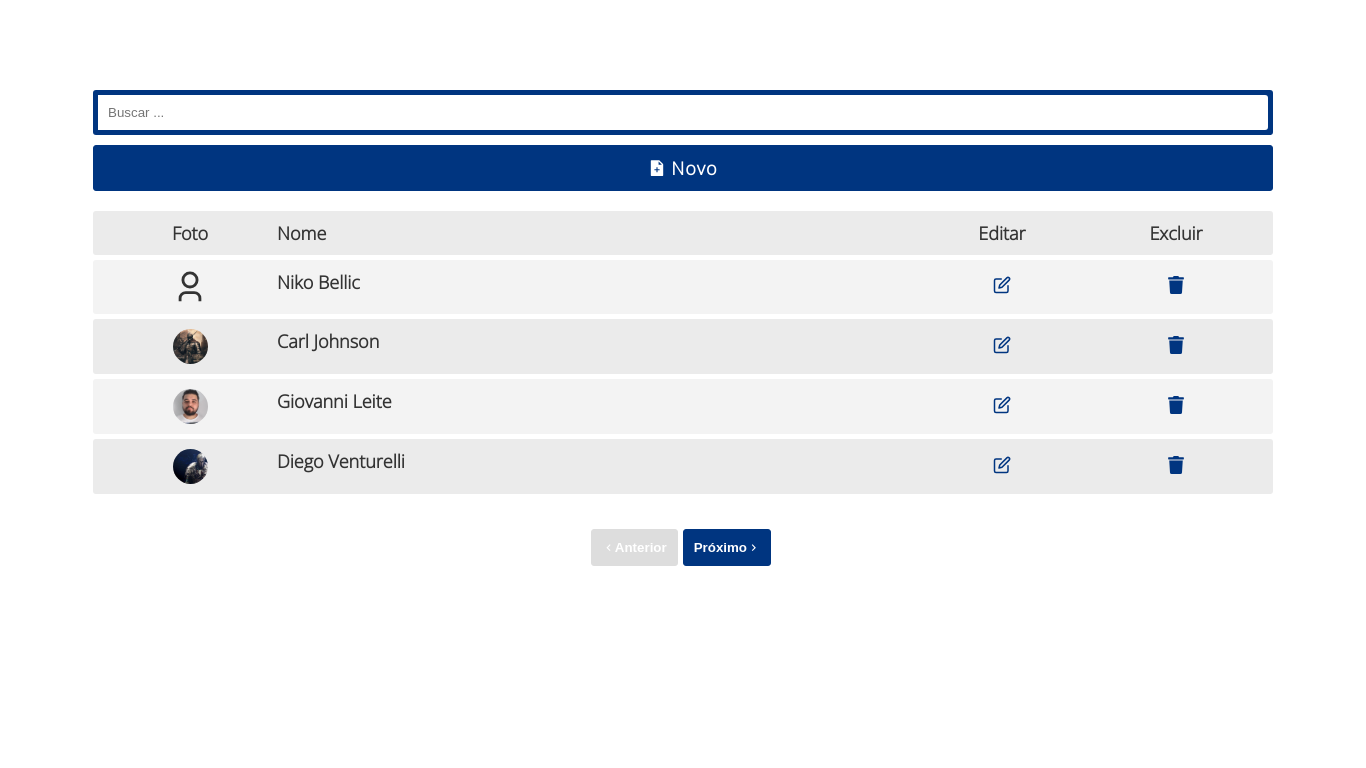
<Home /> › should confirm the identity of the contact and then delete it
expect the link "Niko Bellic" is shown: met, box [277,270,360,294]
Click the link titled "Excluir Registro" in the row of "Niko Bellic" at (1176,287), box [1167,275,1185,299]
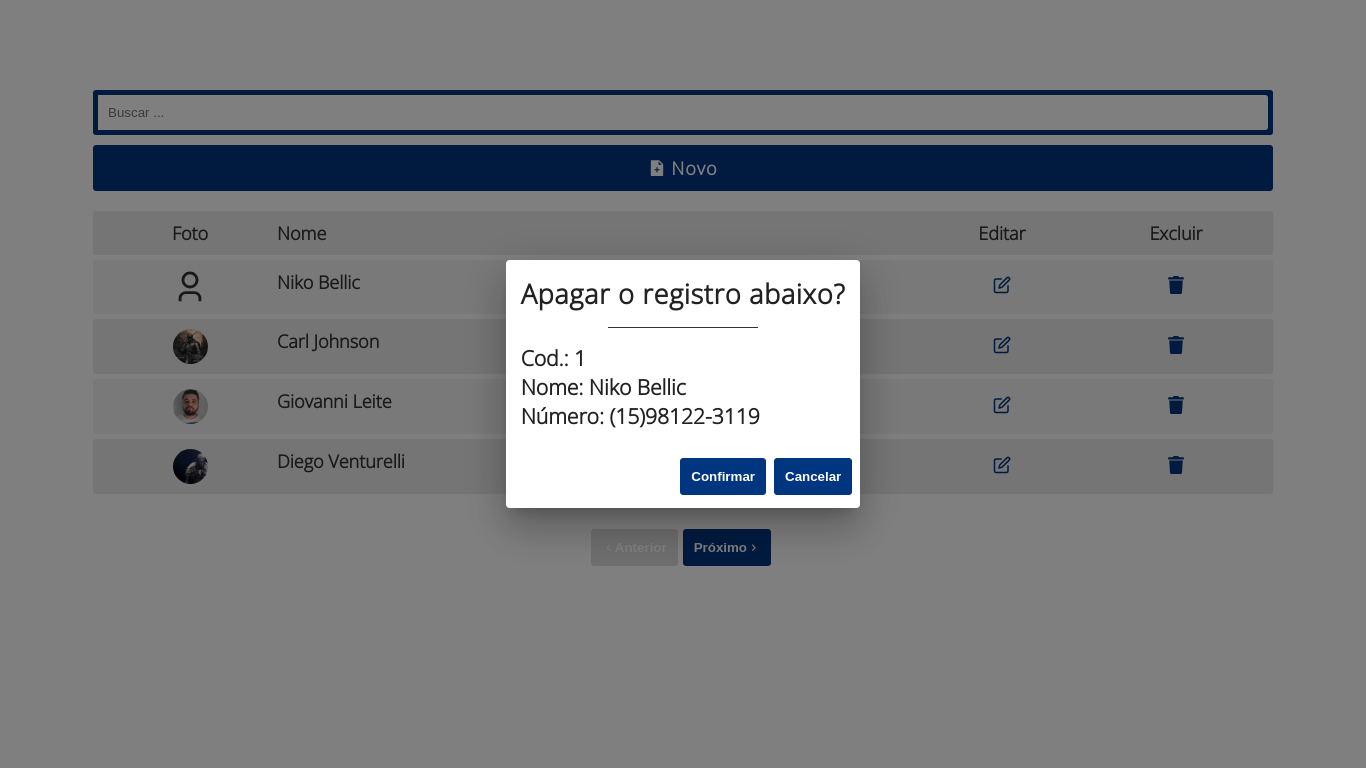
expect the heading with test id "contactInfo" shows "1": met, box [574,343,586,372]
expect the heading with test id "contactInfo" shows "Niko Bellic": met, box [589,372,686,401]
Click the button "Confirmar" at (723,476), box [680,458,766,495]
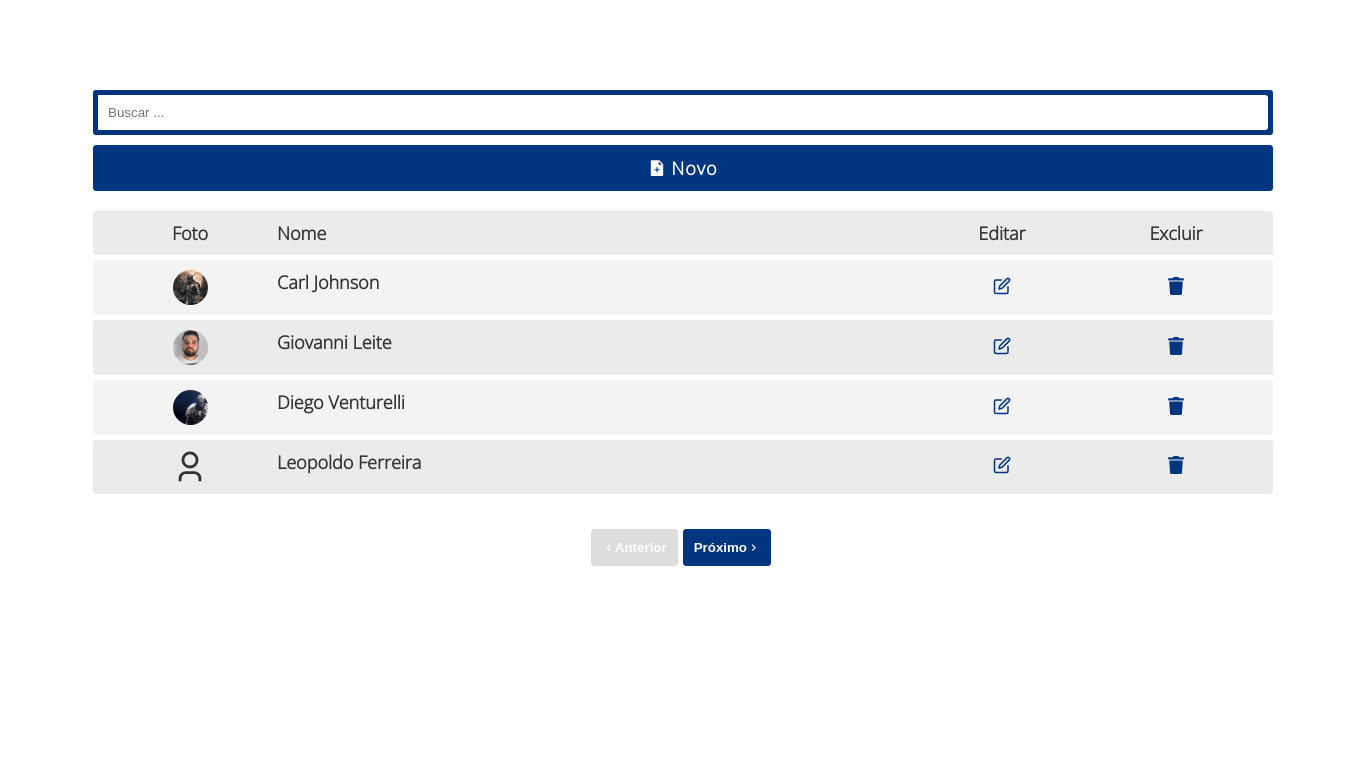
expect the link "Carl Johnson" is shown: met, box [277,270,379,294]
expect the link "Niko Bellic" is gone: met
